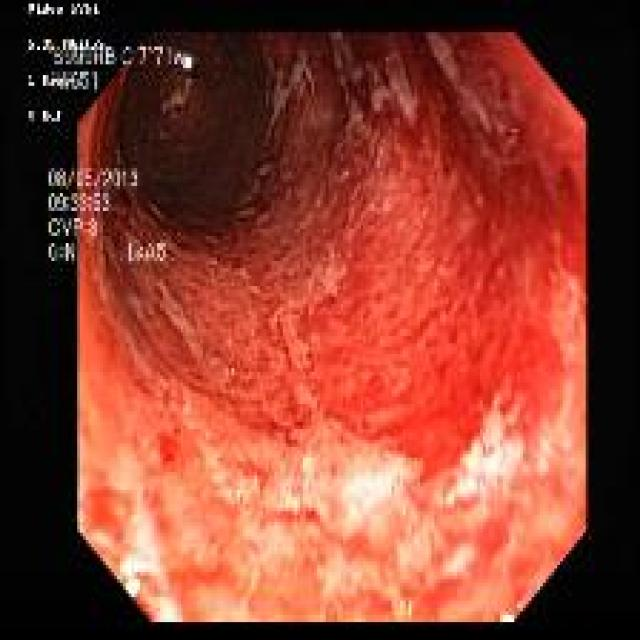ulcerative-colitis: (79, 33, 585, 622)
